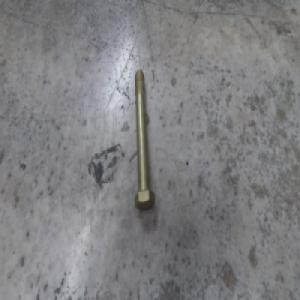Bolt: (132, 70, 155, 210)
